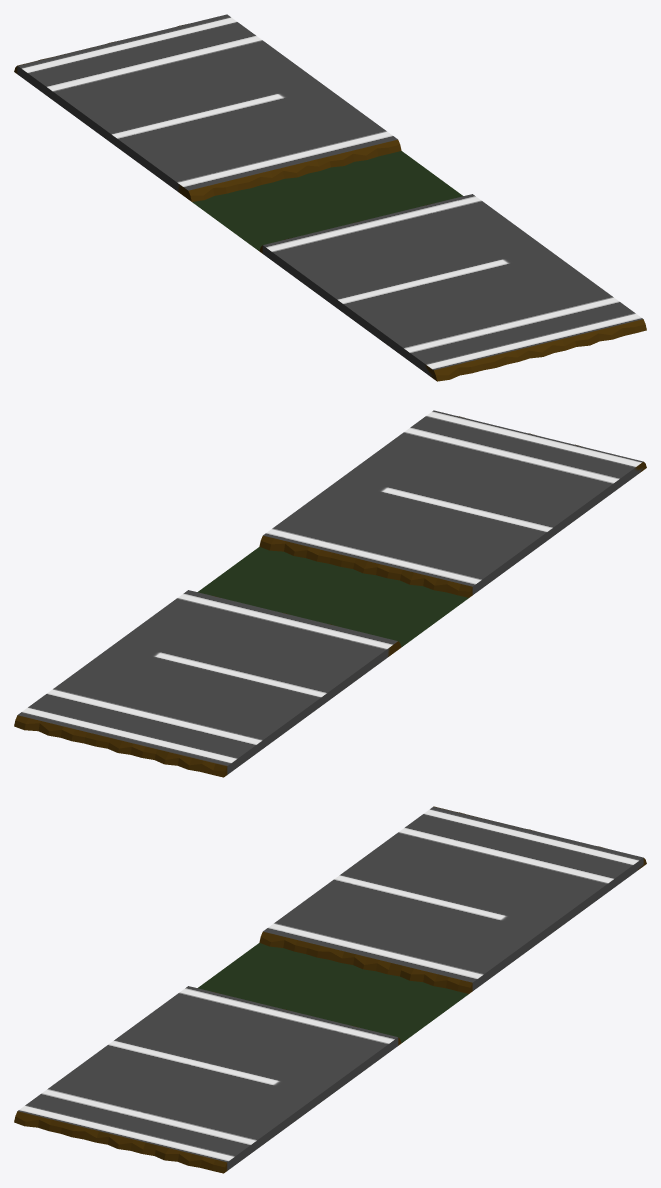
The model's file is road_4_lane.fbx.
3 renders of one model, top to bottom at view 1: azimuth 30°, elevation 25°; view 2: azimuth 150°, elevation 25°; view 3: azimuth 330°, elevation 25°, orthographic.
Visible parts, largest first — view 1: road_4_lane; view 2: road_4_lane; view 3: road_4_lane.
Part boxes in pixels (<box>): road_4_lane: <box>14,14,646,381</box>; road_4_lane: <box>14,410,646,777</box>; road_4_lane: <box>14,806,646,1173</box>.
Size of the model in its own units: 1757 by 500 by 20.
